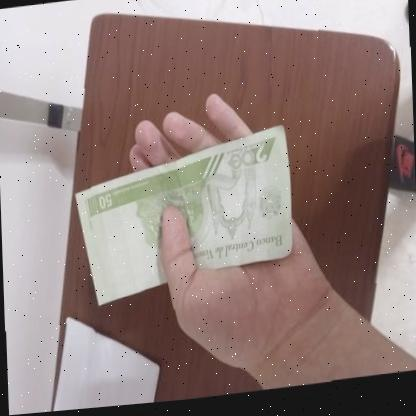fifty-back-vef: (73, 128, 295, 311)
